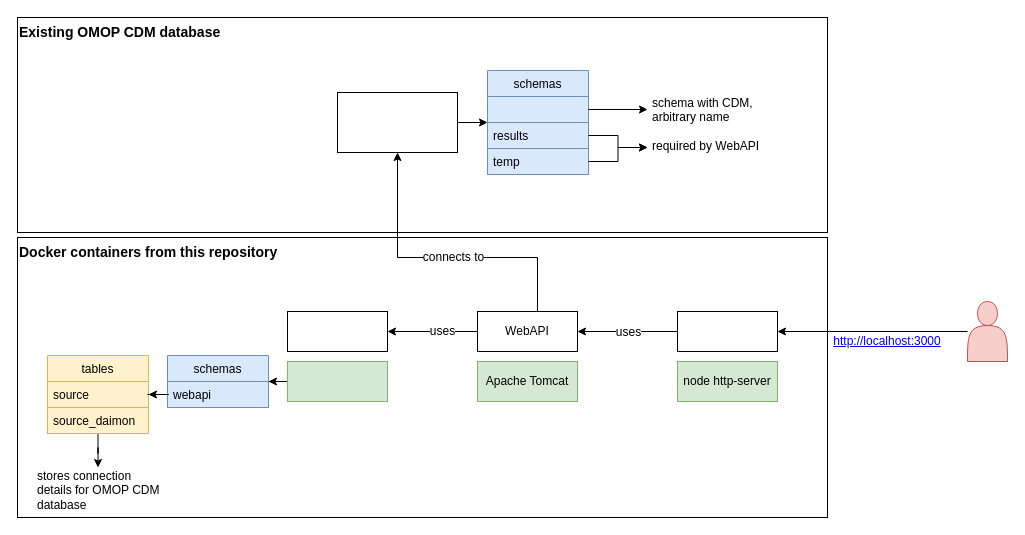
The diagram is 1025 pixels wide and 535 high, and some of its shapes have lost their labels. The shapes that lost their labels are listed below. From the top down, each one's centre as x and y in pixels, then its label:
At point (397, 122): "OMOP CDM database".
At point (537, 109): "cdm".
At point (337, 331): "WebAPI database".
At point (727, 331): "ATLAS".
At point (337, 381): "Postgres".
